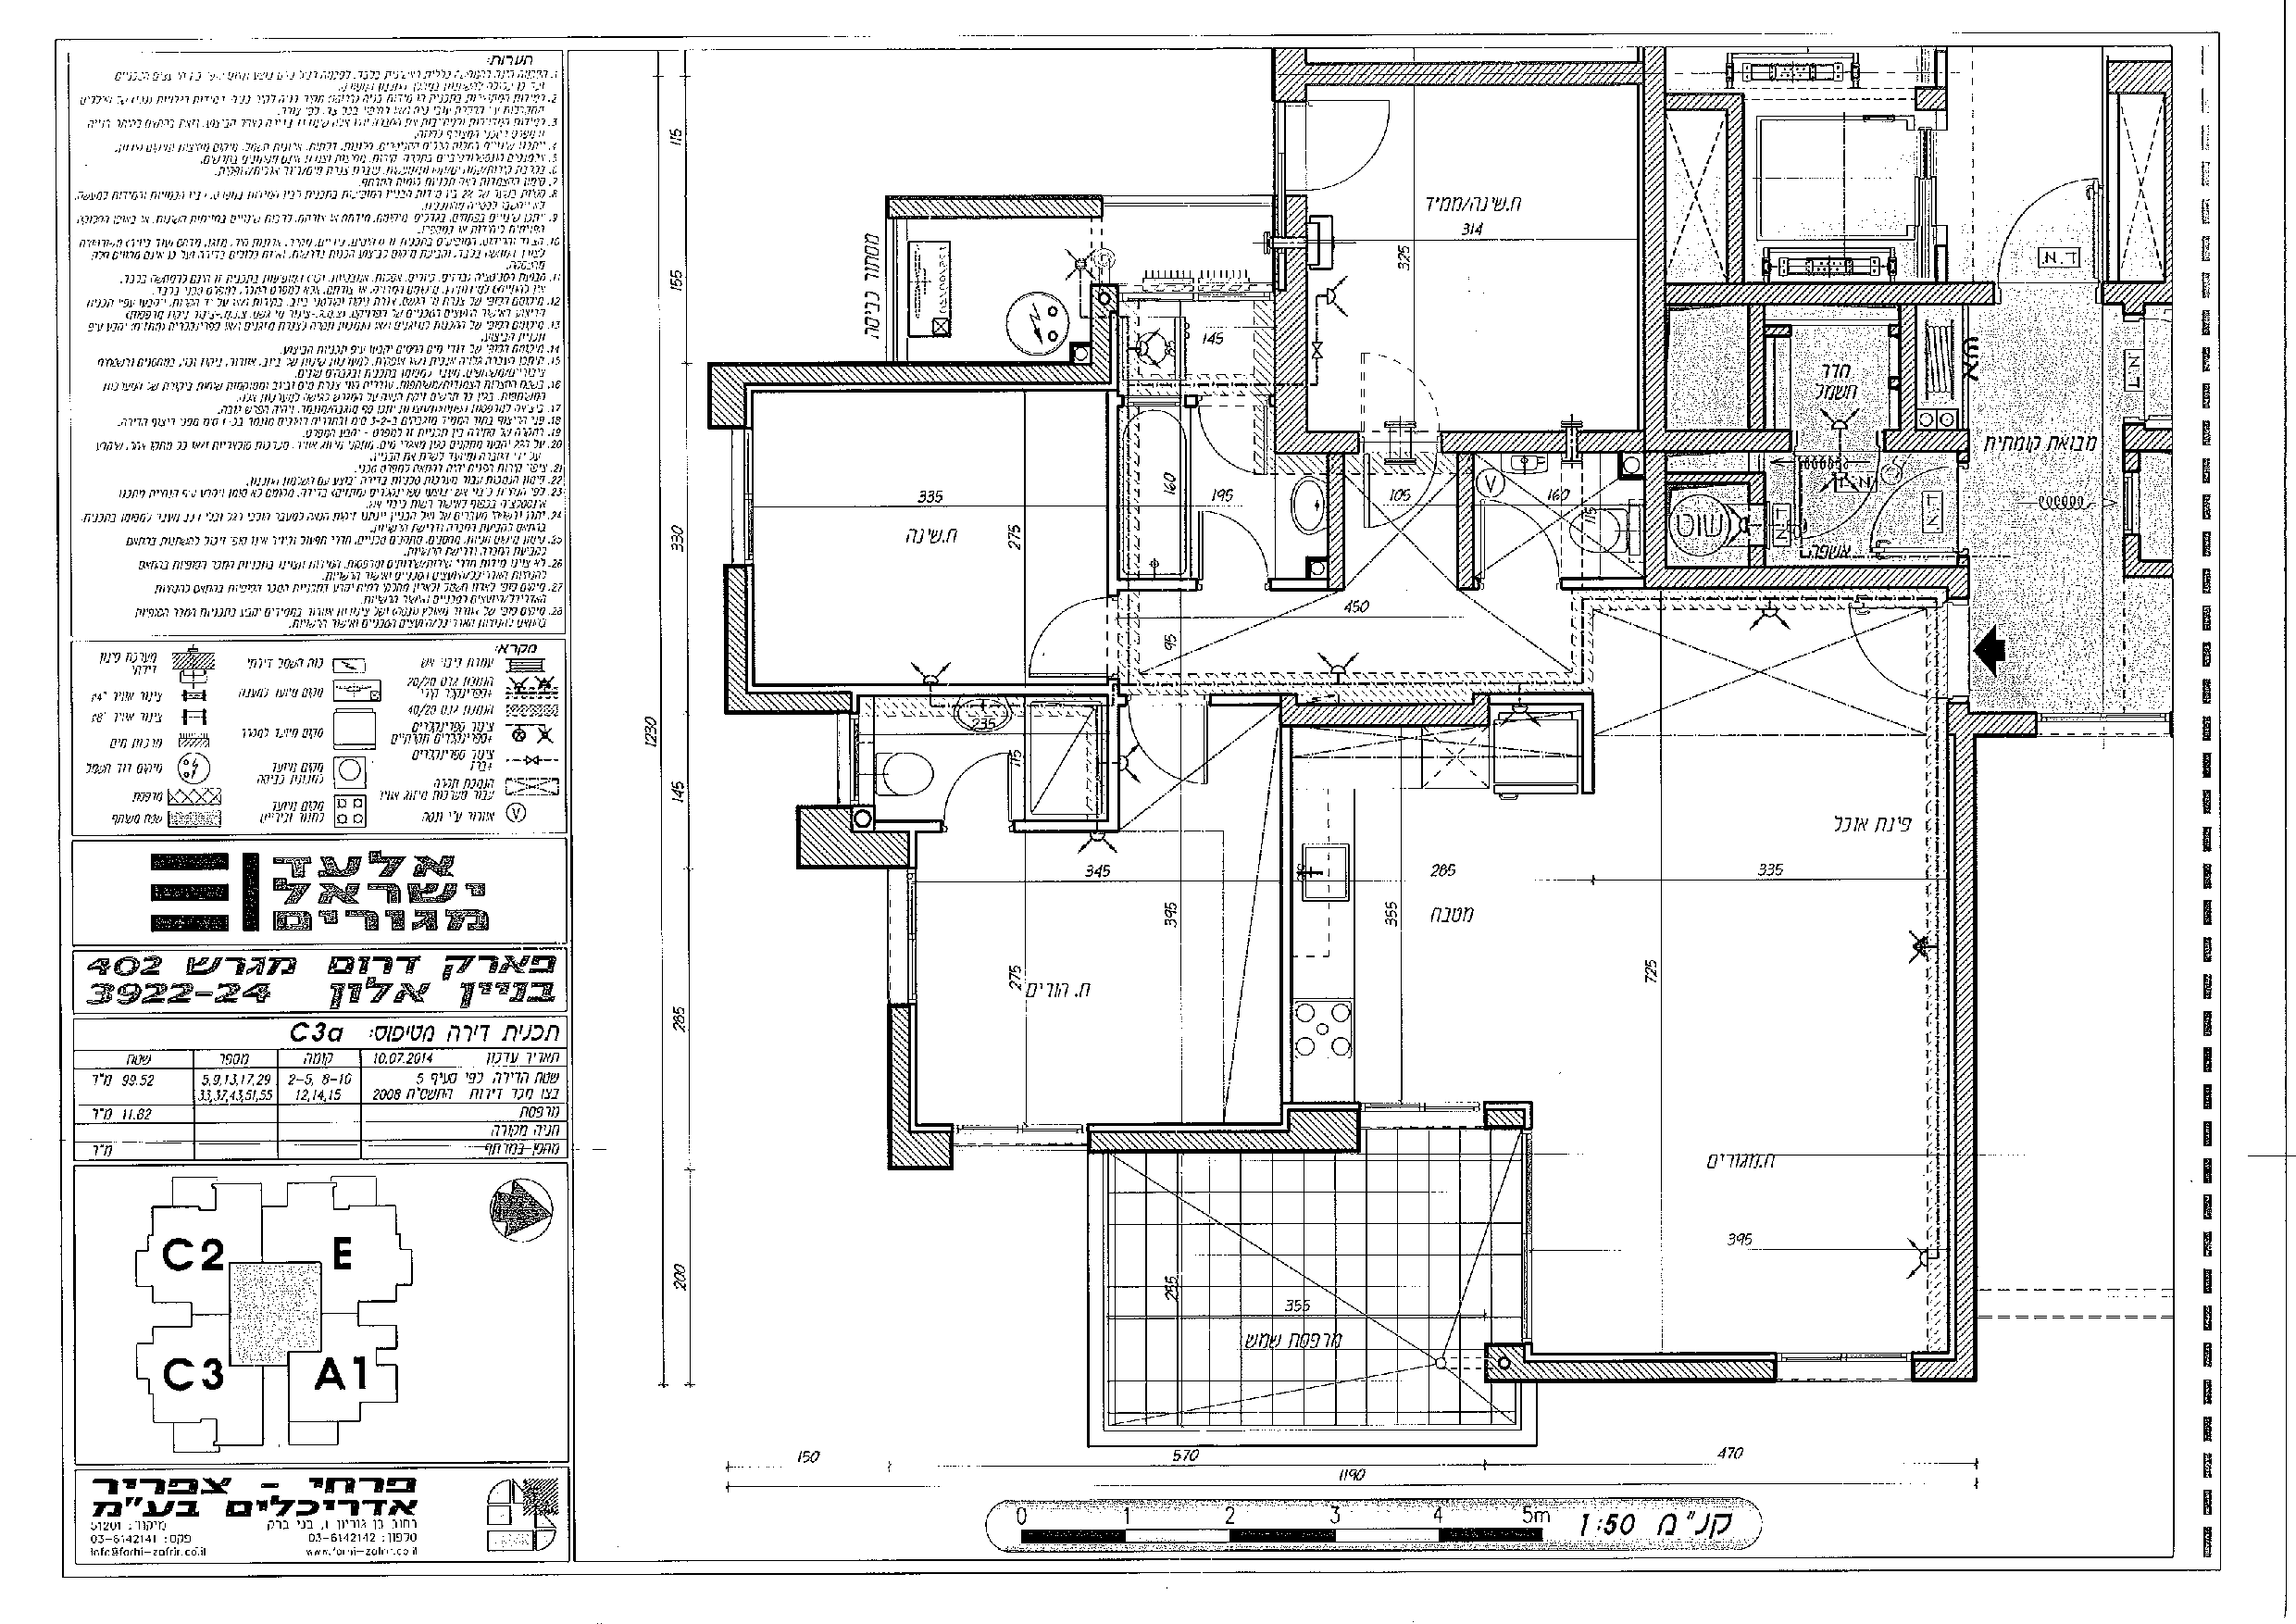door: (1983, 169, 2092, 269), (1310, 90, 1404, 199), (1026, 594, 1108, 678), (942, 747, 1015, 819), (1195, 508, 1267, 578)
wall: (1643, 63, 1665, 573), (1952, 736, 1967, 1380), (713, 362, 1107, 381), (1289, 60, 1634, 81), (1488, 1355, 1774, 1376), (1665, 285, 1992, 301), (889, 197, 1103, 220), (1665, 573, 1967, 589), (1279, 285, 1307, 446), (796, 828, 905, 865), (891, 1007, 915, 1164), (1087, 1134, 1358, 1148), (1449, 434, 1641, 450), (729, 571, 750, 708), (1664, 431, 1788, 453), (1729, 93, 1743, 278), (1458, 464, 1474, 585), (1289, 708, 1486, 717), (1885, 432, 1964, 450), (1753, 306, 1764, 429), (759, 696, 845, 710), (1975, 714, 2036, 733), (1671, 93, 1720, 112)
